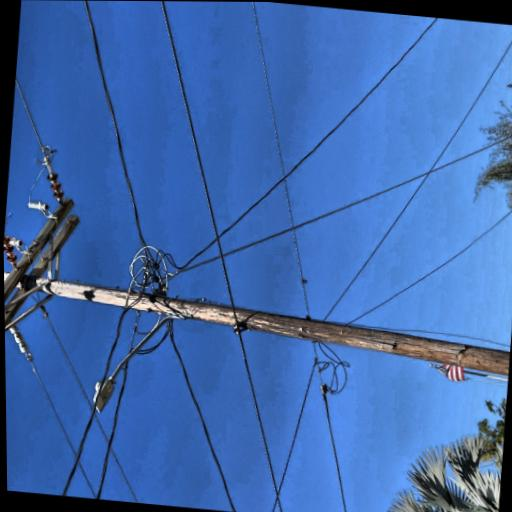pole: (1, 80, 119, 498)
street light: (3, 200, 81, 306)
